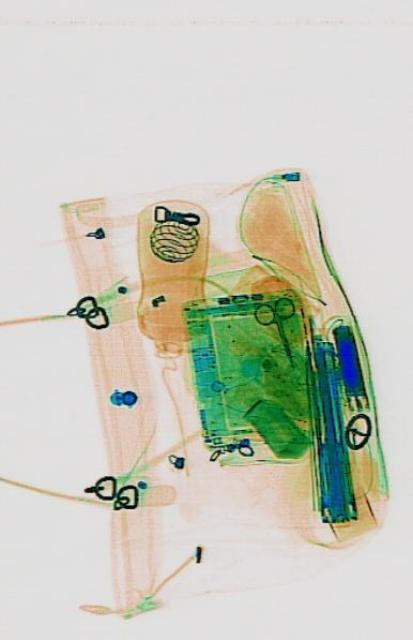Scissors: (251, 286, 305, 369)
